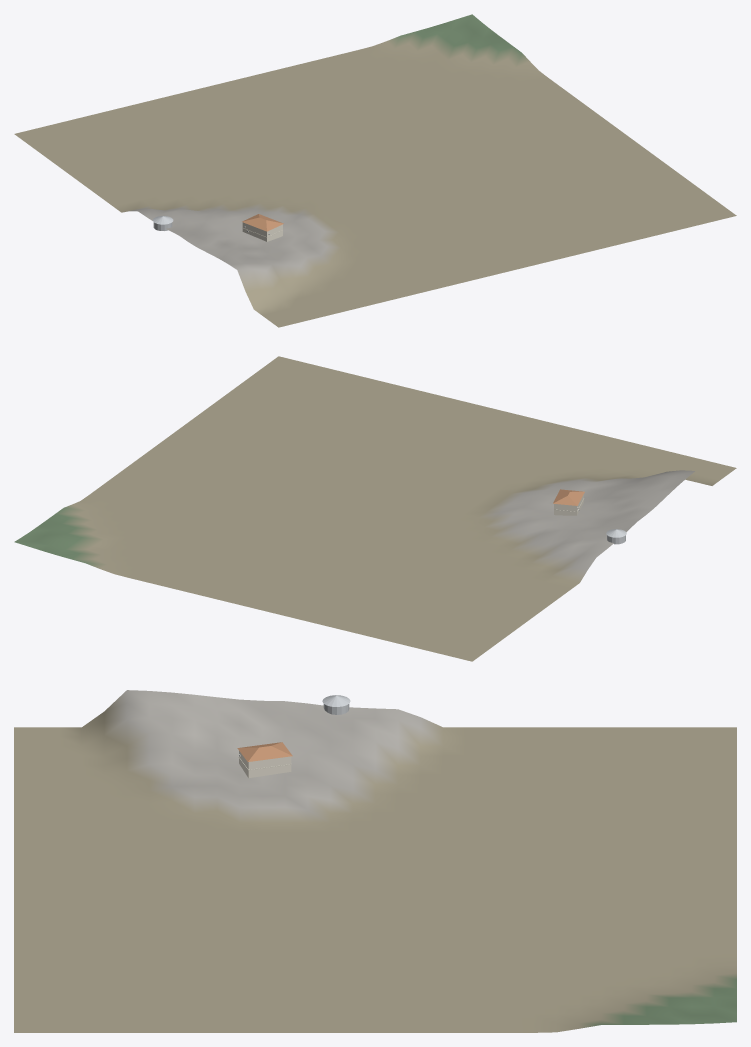
The picture shows the model from 3 angles, top to bottom: view 1: azimuth 30°, elevation 25°; view 2: azimuth 150°, elevation 25°; view 3: azimuth 270°, elevation 25°; orthographic projection. The views are drawn at different scales.
Visible parts, largest first — view 1: Terrain-col, Buildings-col; view 2: Terrain-col, Buildings-col; view 3: Terrain-col, Buildings-col.
Boxes of the visible parts, x1,y1,x2,y2 form: Terrain-col: (14,14,736,327); Buildings-col: (153,214,283,241); Terrain-col: (14,356,736,661); Buildings-col: (553,489,626,544); Terrain-col: (14,690,736,1032); Buildings-col: (237,695,350,778).
Size of the model in its own units: 260 by 14.58 by 256.
